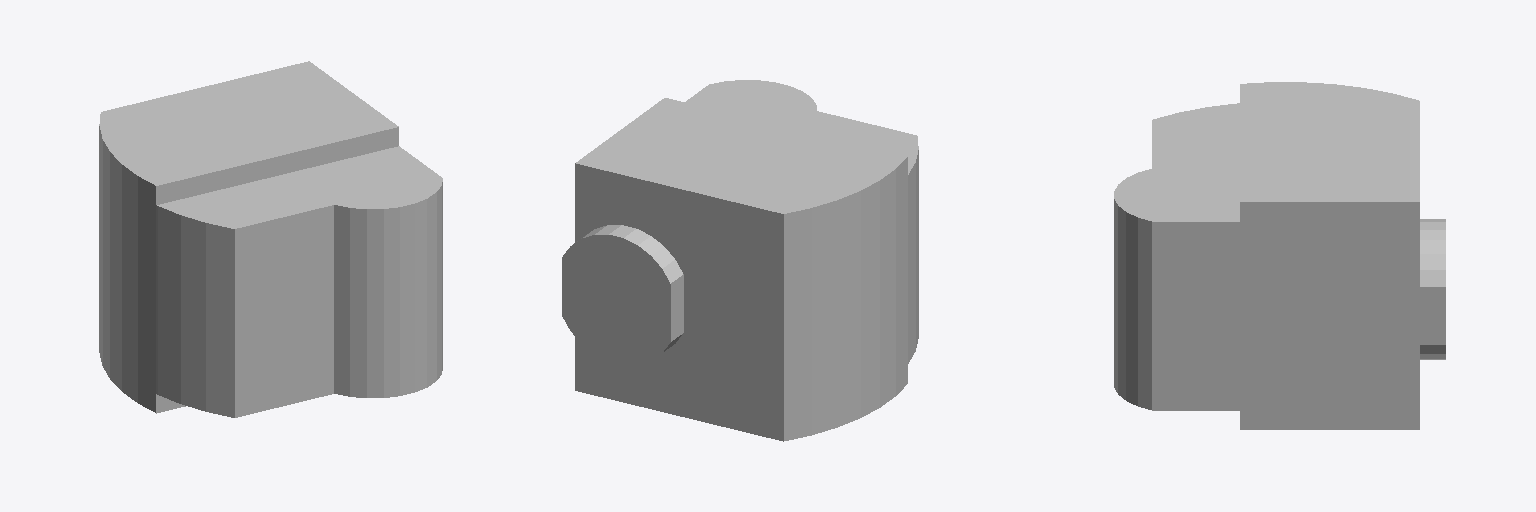
Rendered from d48_ptu_body.obj.
3 views of the same model, side by side, from view 1: azimuth 30°, elevation 25°; view 2: azimuth 150°, elevation 25°; view 3: azimuth 270°, elevation 25° (orthographic).
Parts seen in each view (by area): view 1: <STL_BINARY>_meshId0_name; view 2: <STL_BINARY>_meshId0_name; view 3: <STL_BINARY>_meshId0_name.
Boxes of the visible parts, box(x1,y1,x2,y2) form: <STL_BINARY>_meshId0_name: box(99, 61, 442, 417); <STL_BINARY>_meshId0_name: box(562, 80, 918, 441); <STL_BINARY>_meshId0_name: box(1114, 82, 1445, 429).
Size of the model in its own units: 0.1382 by 0.1219 by 0.161.